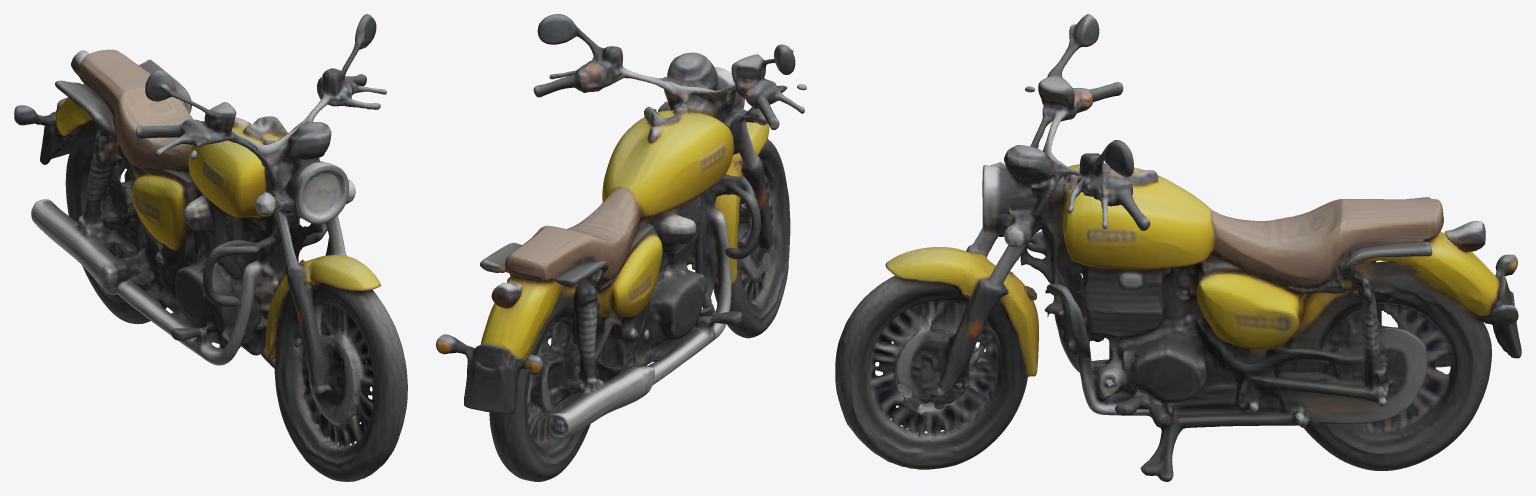
3 renders of one model, left to right at view 1: azimuth 30°, elevation 25°; view 2: azimuth 150°, elevation 25°; view 3: azimuth 270°, elevation 25°, orthographic. The views are drawn at different scales.
Visible parts, largest first — view 1: geometry_0; view 2: geometry_0; view 3: geometry_0.
Part boxes in pixels (bbox=[...]): geometry_0: bbox=[14, 14, 407, 481]; geometry_0: bbox=[436, 14, 806, 481]; geometry_0: bbox=[835, 14, 1521, 481].
Bounding box in the file's own units: 0.4439 × 0.6425 × 0.9965.
